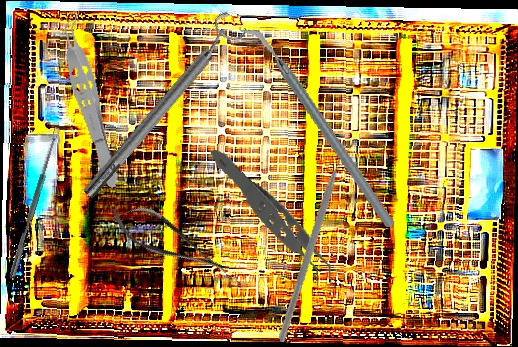Chopper: (238, 4, 397, 249), (237, 140, 402, 343)
Fixation Ring: (72, 8, 251, 206)
Micro Scissor: (103, 192, 236, 290)
Surgical Spoon: (8, 126, 62, 281)
Tissue Forceps: (207, 132, 338, 312), (52, 7, 128, 192)
